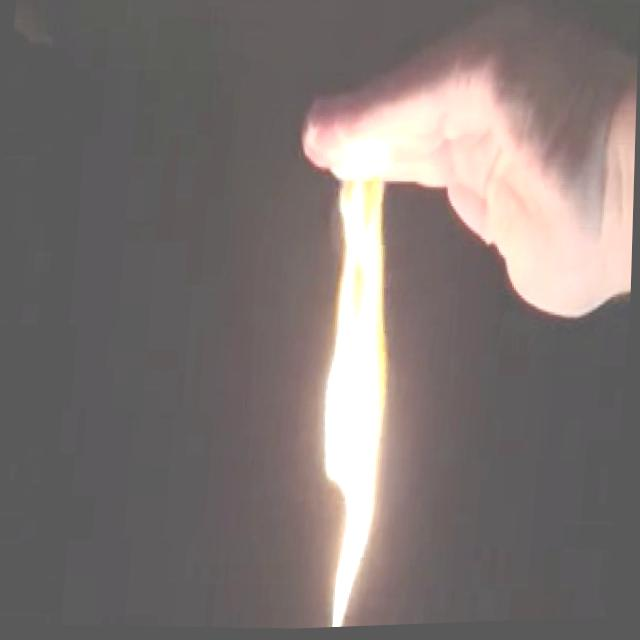Fire: (295, 127, 430, 631)
